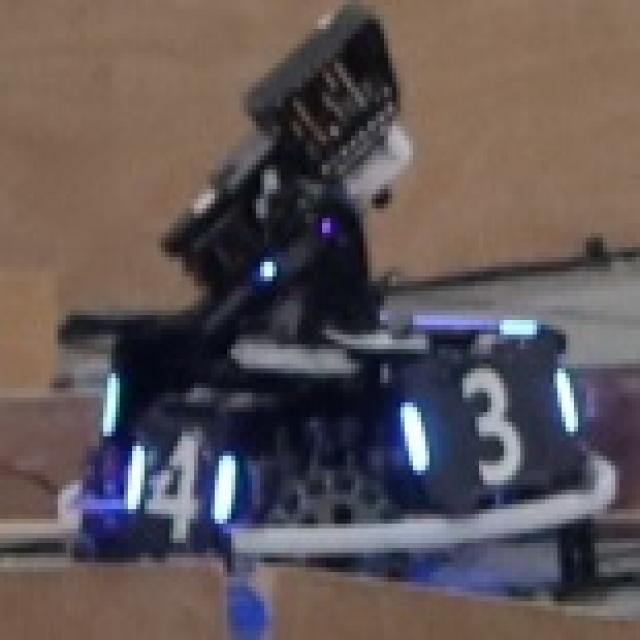B3: (392, 359, 578, 485)
B4: (124, 422, 231, 543)
